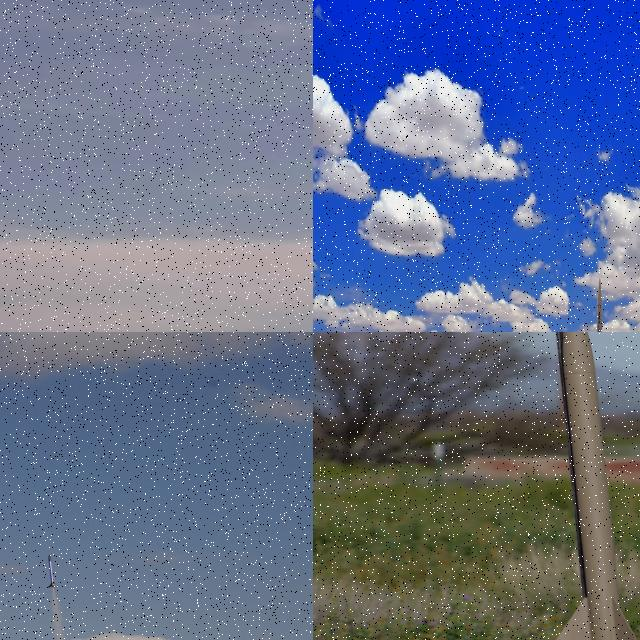Rocket: (552, 332, 640, 640), (46, 555, 58, 588), (597, 278, 602, 332)
